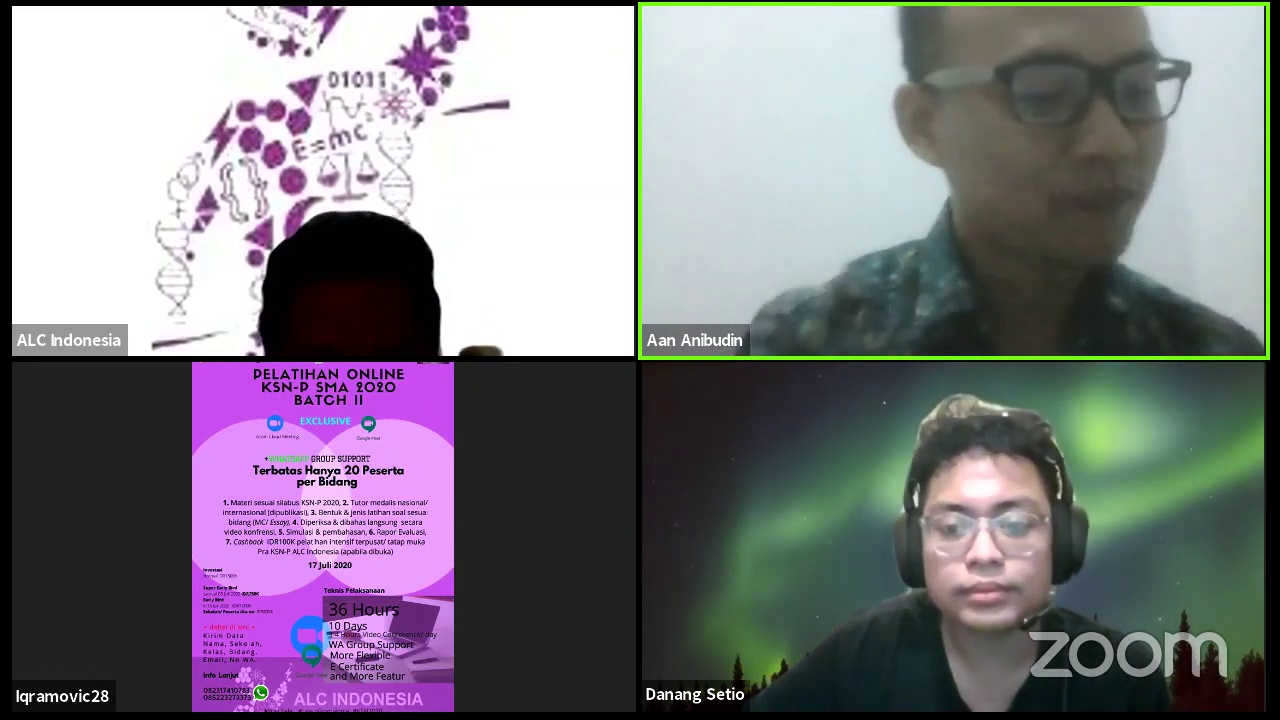Distracted: (897, 24, 1185, 273)
Not Distracted: (889, 437, 1085, 641), (256, 225, 449, 355)
